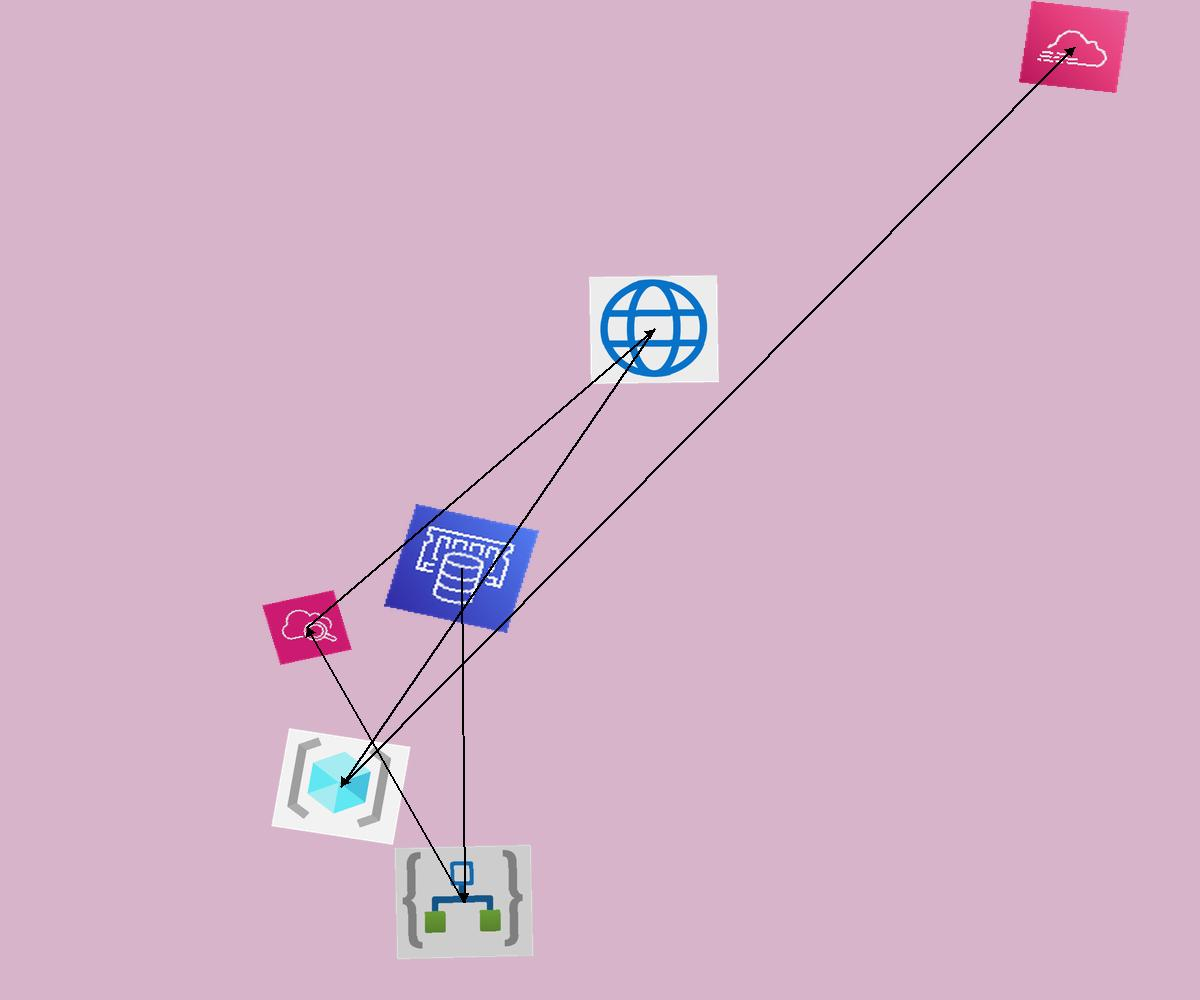AWS-CloudTrail: (1019, 1, 1129, 93)
AWS-CloudWatch: (262, 590, 352, 665)
AWS-ElastiCache: (384, 504, 539, 633)
Azure_http: (589, 275, 719, 384)
Azure_integration-204-Logic-Apps: (394, 844, 534, 960)
Azure_resource_group: (271, 728, 411, 845)
